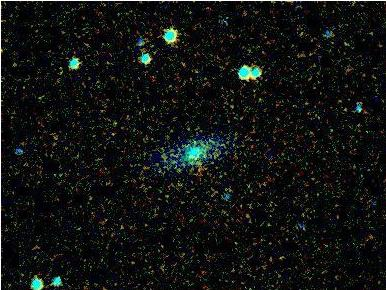star: (178, 125, 208, 155)
